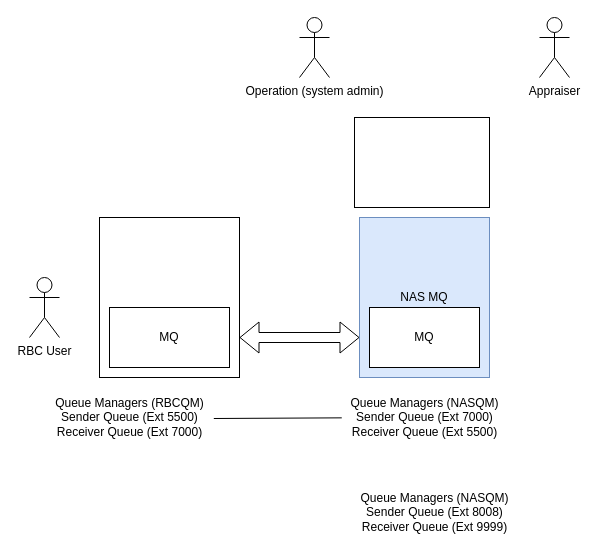
This 597x555 diagram has some shape labels left out. The box of each missing label's shape, as (x1, y1, x2, y2) in pixels:
NAS Portal: (354, 116, 490, 208)
RBC: (98, 216, 240, 378)
